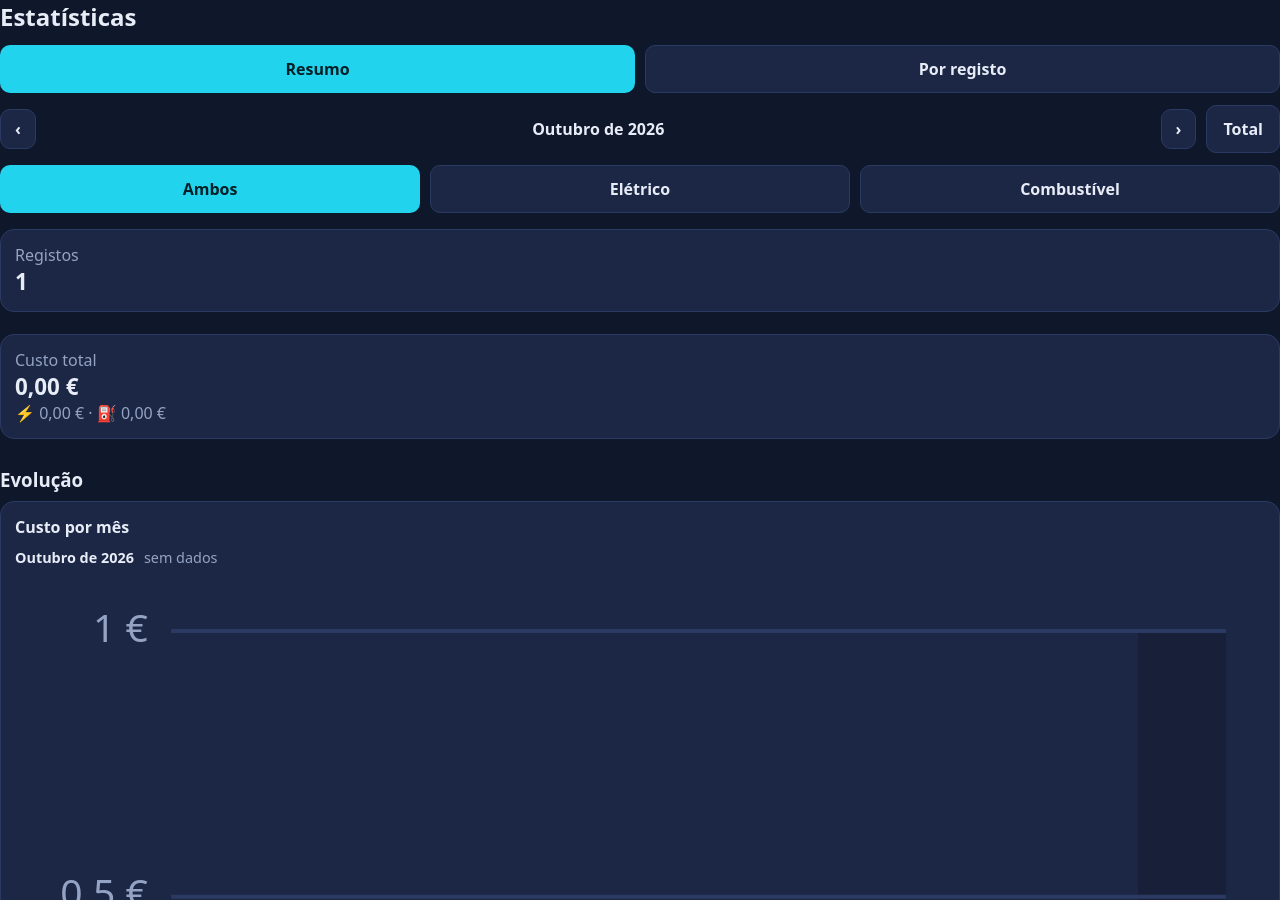
it: StatsScreen › explains how to get per-entry efficiency when there are no odometer readings
The width and height of the screenshot is (1280, 900).
Click the button "Por registo" at (962, 69), box top-left (645, 45), bottom-right (1279, 93)
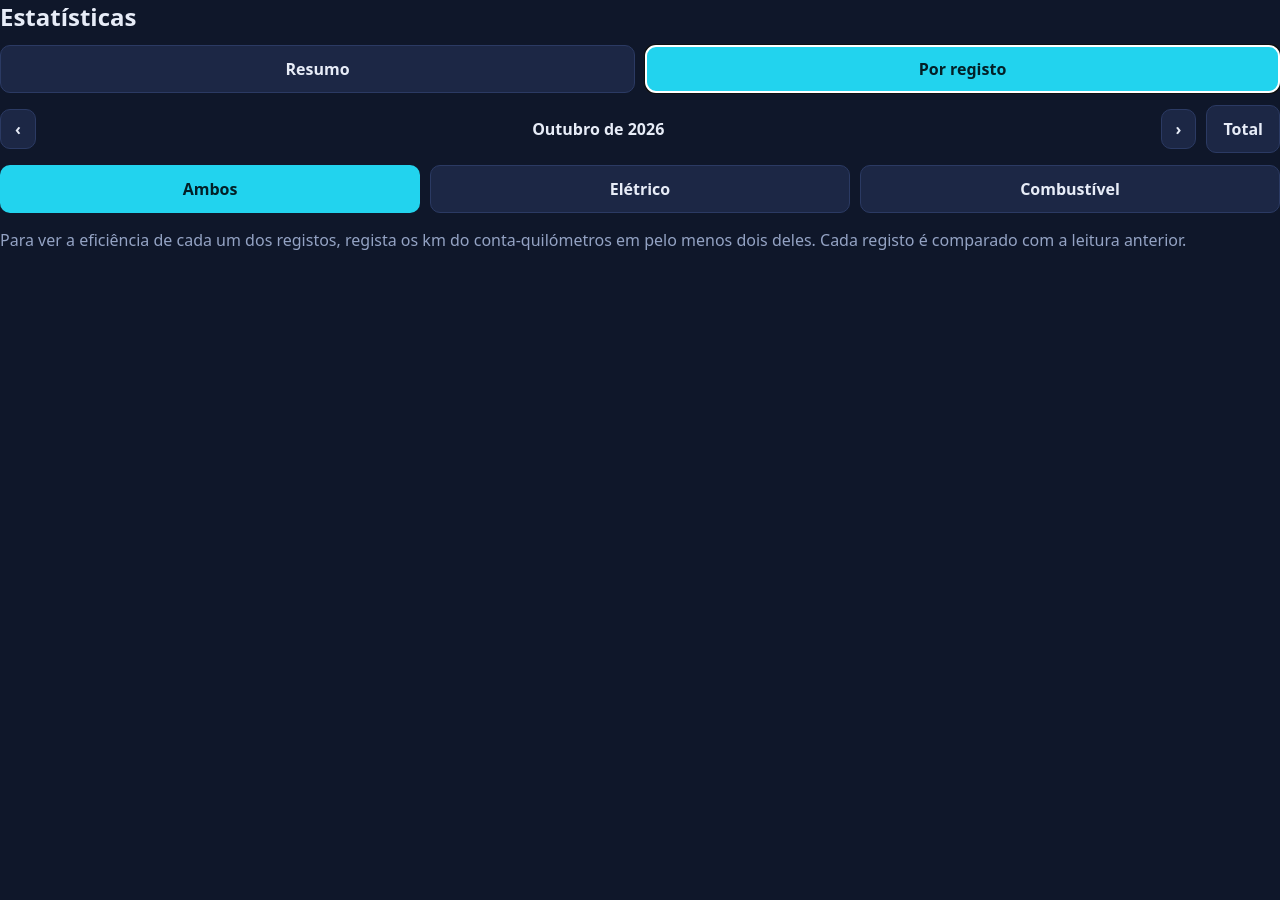
Now the text "regista os km do conta-quilómetros" is shown, box top-left (336, 229), bottom-right (1186, 251)
